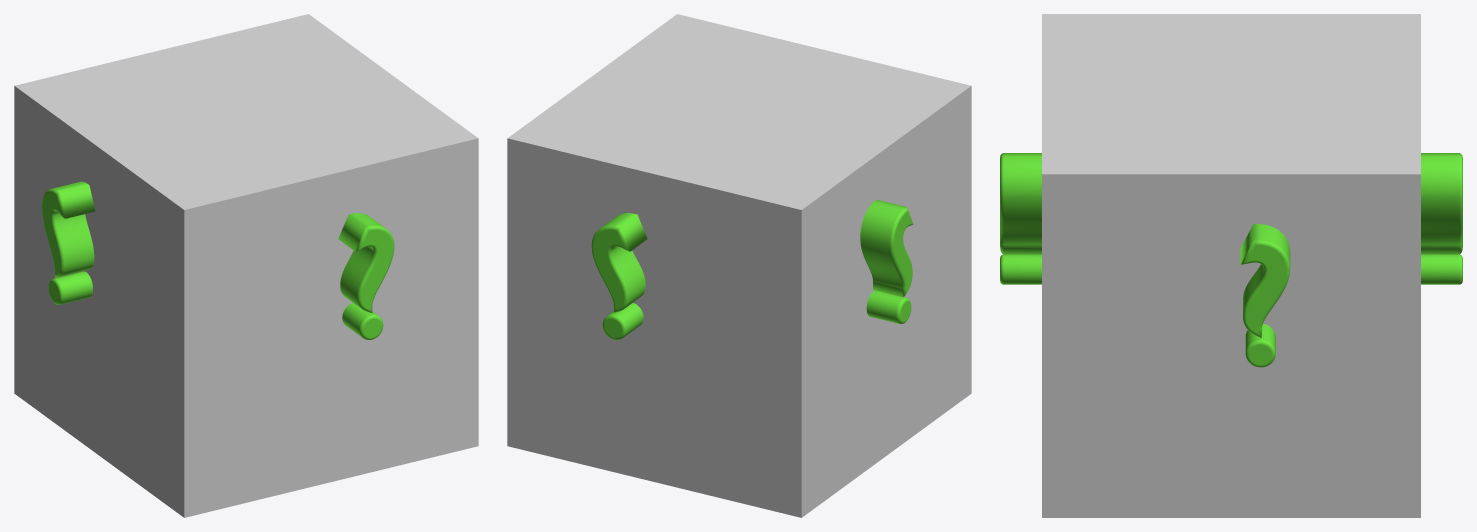
Rendered from BasicBlock.glb.
3 views of the same model, side by side, from view 1: azimuth 30°, elevation 25°; view 2: azimuth 150°, elevation 25°; view 3: azimuth 270°, elevation 25° (orthographic). The views are drawn at different scales.
Parts seen in each view (by area): view 1: Cube, Text.002, Text; view 2: Cube, Text.002, Text.003; view 3: Cube, Text, Text.003, Text.001.
Boxes of the visible parts, x1,y1,x2,y2 form: Cube: (14,14,478,517); Text.002: (42,181,95,304); Text: (338,213,394,339); Cube: (507,14,971,517); Text.002: (860,199,913,323); Text.003: (591,213,647,339); Cube: (1042,14,1420,517); Text: (1000,153,1041,284); Text.003: (1421,153,1462,284); Text.001: (1240,224,1290,367).
Bounding box in the file's own units: 2.44 × 2 × 2.44.
